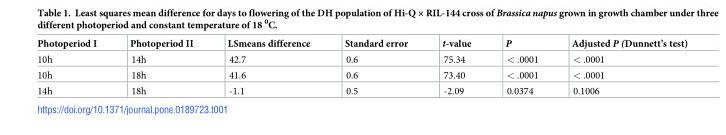table: (36, 36, 686, 95)
table column: (554, 36, 686, 95), (209, 36, 326, 95), (326, 36, 424, 95), (112, 36, 209, 95), (36, 36, 112, 95), (487, 36, 554, 95), (424, 36, 487, 95)
table column header: (36, 36, 686, 51)
table row: (36, 51, 686, 67), (36, 36, 686, 51), (36, 67, 686, 82), (36, 82, 686, 95)
